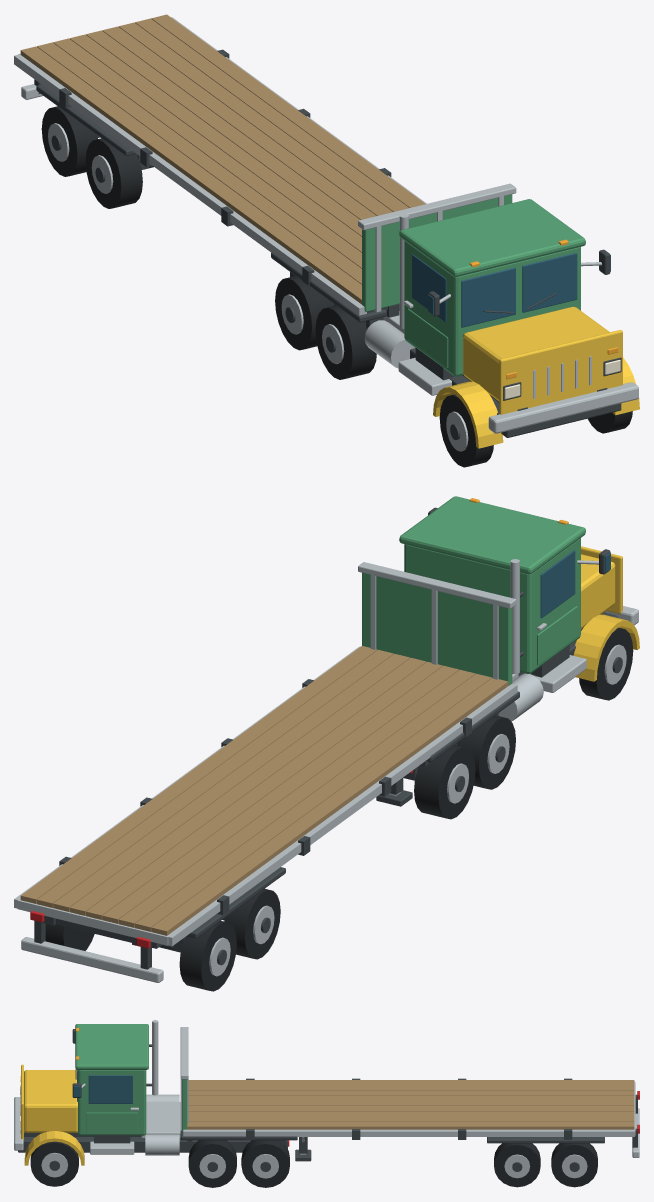
File: semi_flatbed_combo.glb
The picture shows the model from 3 angles, top to bottom: view 1: azimuth 30°, elevation 25°; view 2: azimuth 150°, elevation 25°; view 3: azimuth 270°, elevation 25°; orthographic projection. The views are drawn at different scales.
Parts seen in each view (by area): view 1: Tractor cab roof, Flatbed long wooden deck plank, Tractor front fascia, Tractor engine hood, Flatbed long wooden deck plank.001, Flatbed long wooden deck plank.002, Tractor cab, Flatbed long wooden deck plank.003, Flatbed side steel rail, Flatbed long wooden deck plank.004, Flatbed long wooden deck plank.008, Flatbed long wooden deck plank.005 (+22 smaller); view 2: Flatbed front headboard, Tractor cab roof, Flatbed long wooden deck plank, Tractor cab, Flatbed long wooden deck plank.001, Flatbed long wooden deck plank.002, Flatbed long wooden deck plank.005, Flatbed long wooden deck plank.006, Flatbed long wooden deck plank.003, Flatbed long wooden deck plank.007, Flatbed long wooden deck plank.004, Flatbed long wooden deck plank.008 (+19 smaller); view 3: Flatbed long wooden deck plank.008, Tractor cab roof, Flatbed side steel rail.001, Tractor engine hood, Flatbed long wooden deck plank.002, Flatbed long wooden deck plank.007, Flatbed long wooden deck plank.001, Flatbed long wooden deck plank.003, Flatbed long wooden deck plank.004, Flatbed long wooden deck plank.005, Flatbed long wooden deck plank.006, Flatbed long wooden deck plank (+26 smaller).
Part boxes in pixels (x1,y1,x2,y2): Tractor cab roof: (399, 199, 585, 276); Flatbed long wooden deck plank: (20, 46, 361, 304); Tractor front fascia: (499, 330, 622, 414); Tractor engine hood: (463, 306, 609, 401); Flatbed long wooden deck plank.001: (37, 42, 361, 284); Flatbed long wooden deck plank.002: (53, 38, 361, 268); Tractor cab: (404, 241, 580, 376); Flatbed long wooden deck plank.003: (69, 34, 361, 252); Flatbed side steel rail: (14, 54, 366, 315); Flatbed long wooden deck plank.004: (86, 30, 361, 236); Flatbed long wooden deck plank.008: (151, 14, 425, 207); Flatbed long wooden deck plank.005: (102, 26, 376, 219); Flatbed front headboard: (362, 572, 512, 685); Tractor cab roof: (399, 496, 585, 574); Flatbed long wooden deck plank: (151, 678, 508, 935); Tractor cab: (404, 538, 580, 673); Flatbed long wooden deck plank.001: (135, 673, 491, 931); Flatbed long wooden deck plank.002: (118, 669, 475, 927); Flatbed long wooden deck plank.005: (69, 658, 426, 915); Flatbed long wooden deck plank.006: (53, 654, 409, 911); Flatbed long wooden deck plank.003: (102, 666, 459, 923); Flatbed long wooden deck plank.007: (37, 650, 393, 907); Flatbed long wooden deck plank.004: (86, 662, 442, 919); Flatbed long wooden deck plank.008: (20, 646, 377, 903); Flatbed long wooden deck plank.008: (187, 1121, 634, 1129); Tractor cab roof: (75, 1024, 148, 1069); Flatbed side steel rail.001: (183, 1129, 634, 1136); Tractor engine hood: (24, 1070, 77, 1132); Flatbed long wooden deck plank.002: (188, 1090, 634, 1095); Flatbed long wooden deck plank.007: (188, 1116, 634, 1121); Flatbed long wooden deck plank.001: (188, 1085, 634, 1090); Flatbed long wooden deck plank.003: (188, 1095, 634, 1100); Flatbed long wooden deck plank.004: (188, 1100, 634, 1105); Flatbed long wooden deck plank.005: (188, 1106, 634, 1111); Flatbed long wooden deck plank.006: (188, 1111, 634, 1116); Flatbed long wooden deck plank: (188, 1080, 634, 1084).
Bounding box in the file's own units: 3.05 × 3.07 × 14.19.
